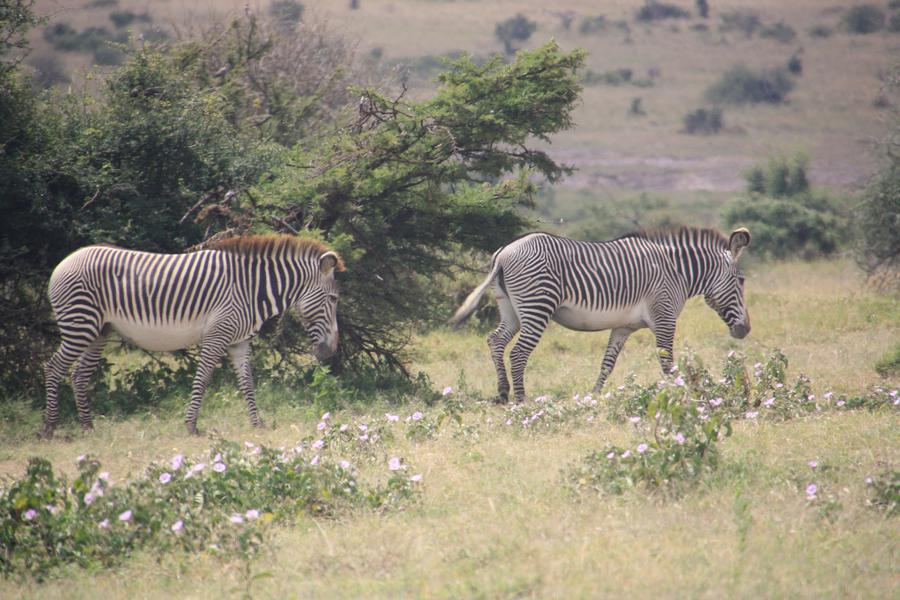zebra_grevys: (50, 234, 242, 336), (493, 237, 680, 317)
